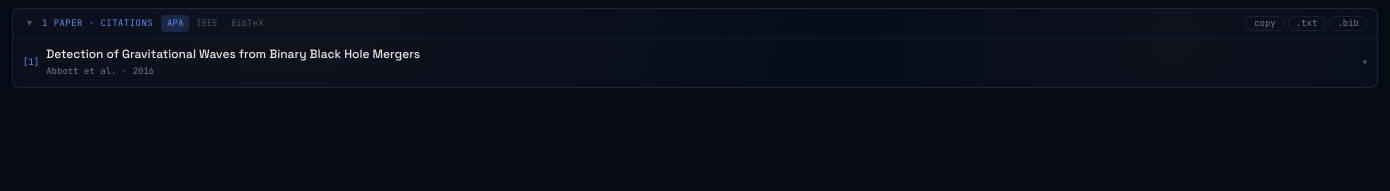
Test case: CitationPanel › renders arxiv link when paper is expanded
This screenshot has width=1390, height=191.
// Click on the paper row button to expand
Click the button "Detection of Gravitational".
click(233, 54)  # box [13, 39, 1377, 87]
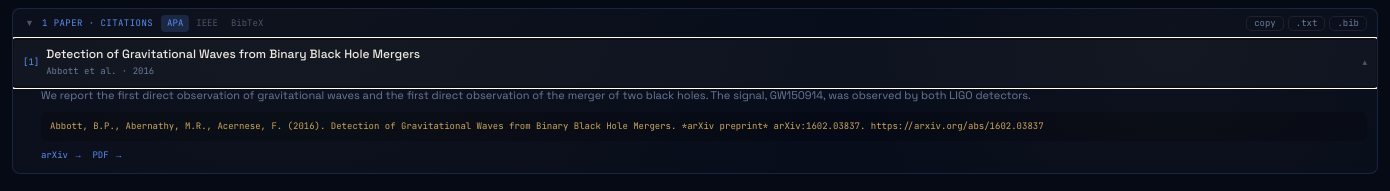
Result: the link "arXiv →" is shown at [41, 148, 82, 163]
